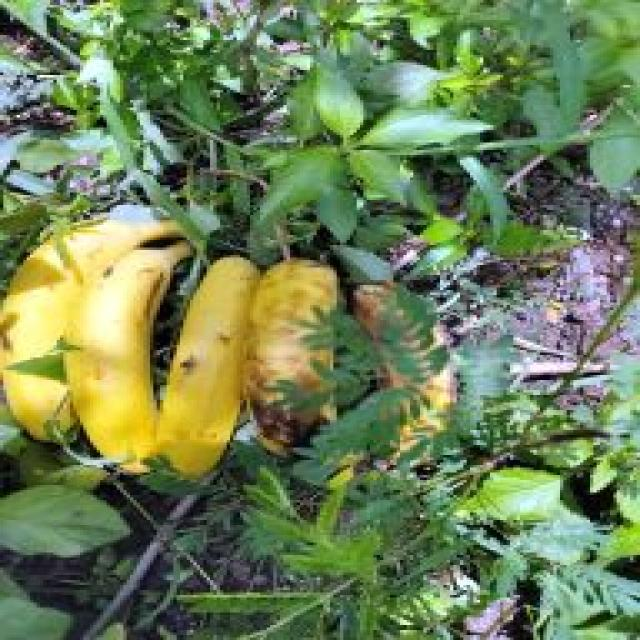Organik: (10, 196, 173, 449), (248, 233, 405, 466), (63, 232, 184, 489), (165, 232, 271, 480)
